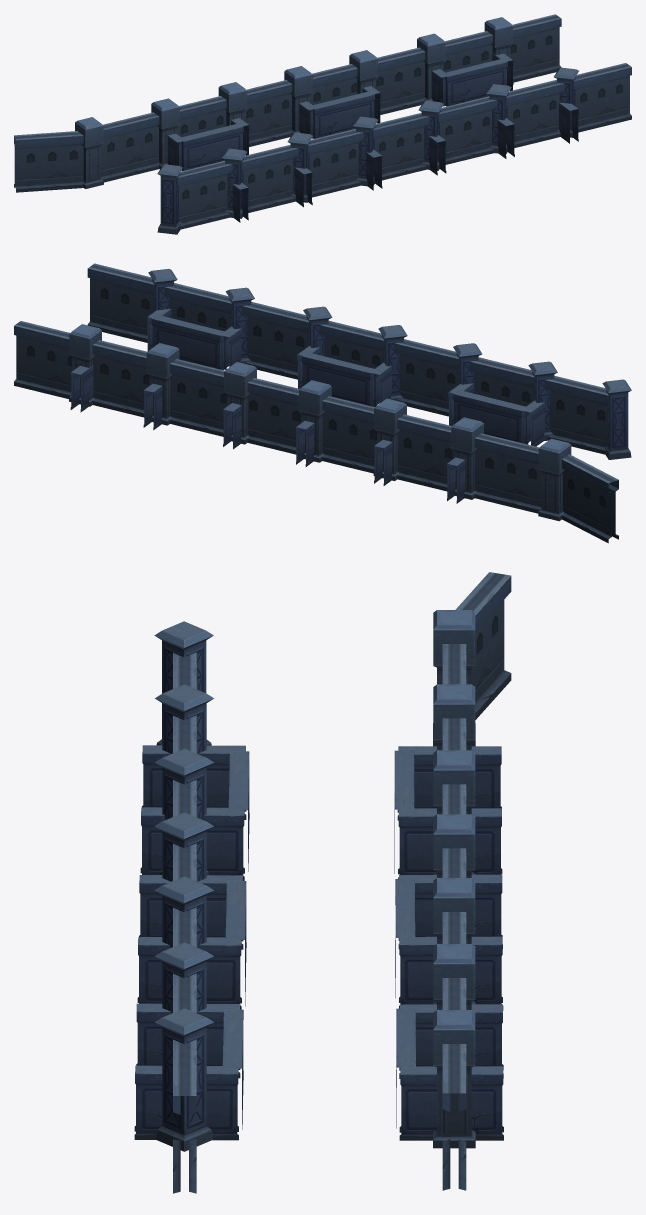
The model's file is Area_11_2.fbx.
The picture shows the model from 3 angles, top to bottom: view 1: azimuth 30°, elevation 25°; view 2: azimuth 150°, elevation 25°; view 3: azimuth 270°, elevation 25°; orthographic projection. The views are drawn at different scales.
Parts seen in each view (by area): view 1: Area_11_2; view 2: Area_11_2; view 3: Area_11_2.
Boxes of the visible parts, box(x1,y1,x2,y2) form: Area_11_2: box(14, 14, 631, 234); Area_11_2: box(14, 263, 631, 543); Area_11_2: box(134, 572, 511, 1193).
Bounding box in the file's own units: 6392 × 699 × 1942.
